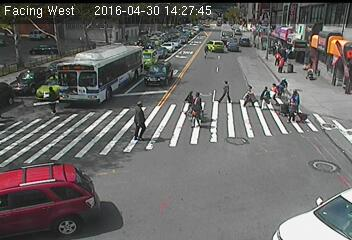neg: (50, 148, 94, 208), (304, 151, 329, 185), (226, 167, 251, 201), (94, 47, 117, 78), (312, 33, 335, 63), (234, 26, 255, 54), (276, 31, 292, 52), (147, 58, 163, 78), (183, 42, 197, 61)
pos: (120, 97, 156, 146), (214, 76, 235, 104), (175, 87, 196, 114), (241, 80, 261, 107), (43, 84, 63, 111), (285, 98, 303, 122), (256, 83, 273, 106), (274, 73, 290, 95)
